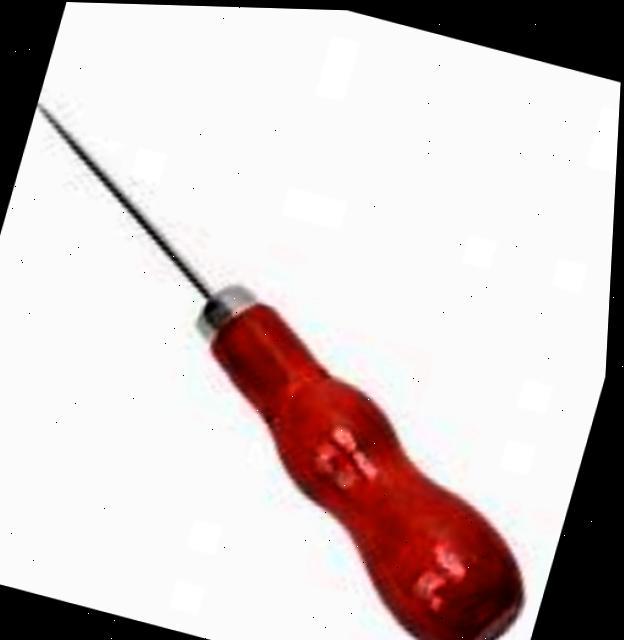ice pick: (0, 83, 621, 640)
